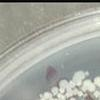white: (71, 73, 83, 87), (56, 78, 70, 90), (73, 86, 84, 99), (39, 91, 53, 100), (91, 75, 100, 89), (76, 69, 86, 81), (50, 85, 60, 96), (88, 81, 97, 93), (82, 79, 92, 89), (65, 89, 74, 99), (92, 89, 100, 100), (67, 80, 76, 89), (57, 92, 67, 100), (84, 68, 91, 79), (80, 92, 89, 99), (58, 87, 66, 94), (81, 87, 88, 93), (49, 97, 59, 100), (68, 97, 78, 100)
